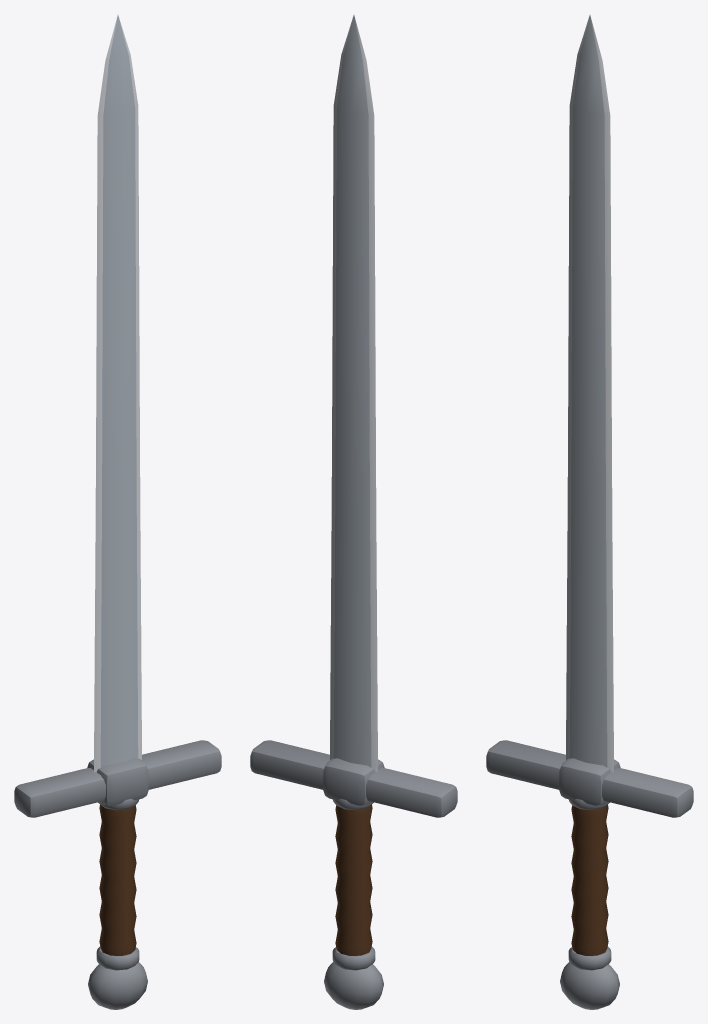
The model's file is iron_sword.glb.
The picture shows the model from 3 angles, left to right: view 1: azimuth 30°, elevation 25°; view 2: azimuth 150°, elevation 25°; view 3: azimuth 330°, elevation 25°; orthographic projection.
Parts seen in each view (by area): view 1: iron_sword; view 2: iron_sword; view 3: iron_sword.
Part boxes in pixels (<box>): iron_sword: <box>14,15,221,1009</box>; iron_sword: <box>250,15,457,1009</box>; iron_sword: <box>486,15,693,1009</box>.
Bounding box in the file's own units: 0.21 × 1.02 × 0.045.
